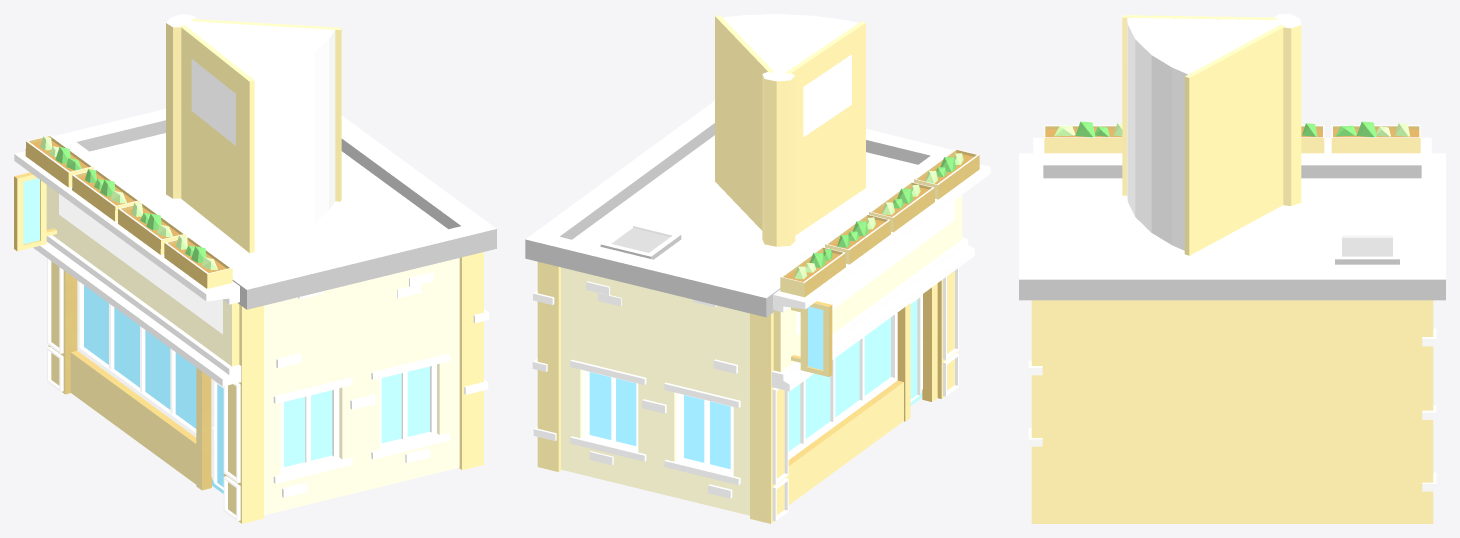
File: tile_for_home_1x1.006 (1) bookstore.glb
3 views of the same model, side by side, from view 1: azimuth 30°, elevation 25°; view 2: azimuth 150°, elevation 25°; view 3: azimuth 270°, elevation 25° (orthographic). The views are drawn at different scales.
Parts seen in each view (by area): view 1: services.002; view 2: services.002; view 3: services.002.
Part boxes in pixels (<box>): services.002: <box>14,14,496,523</box>; services.002: <box>525,14,990,523</box>; services.002: <box>1019,14,1445,523</box>.
Bounding box in the file's own units: 5.85 × 7.51 × 7.05.
1 material, 1 textured.
